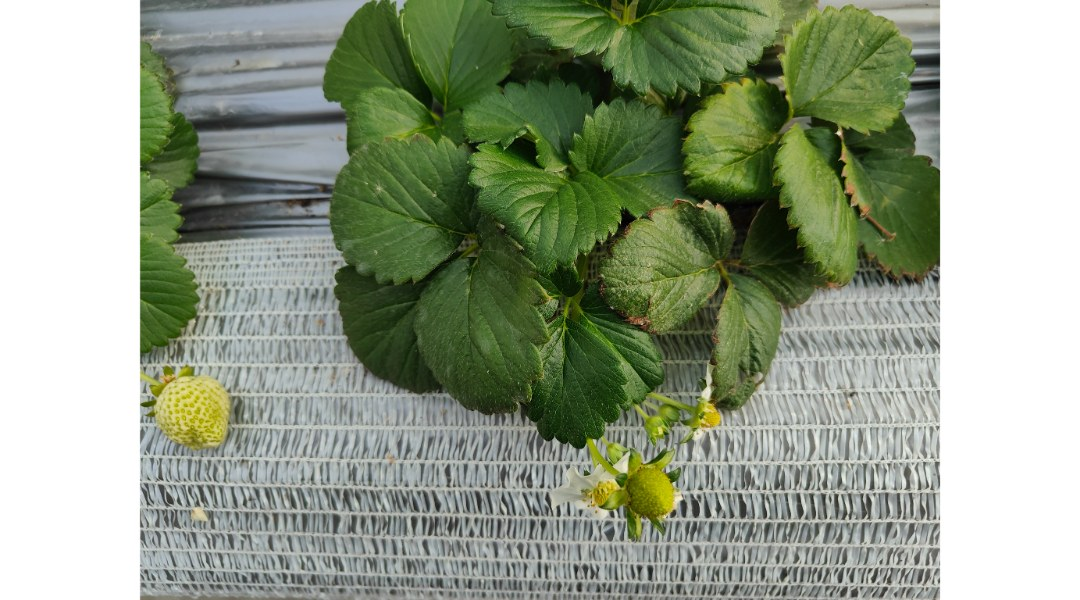berry: (138, 353, 232, 454), (613, 454, 697, 532)
flower: (543, 469, 636, 520)
